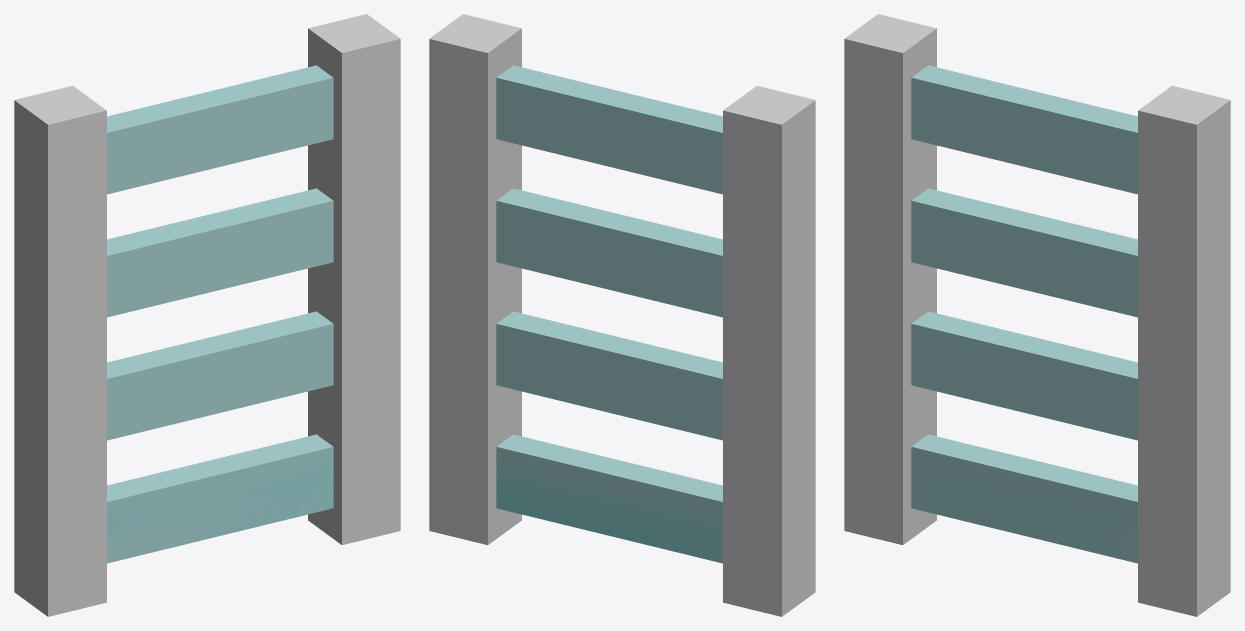
3 views of the same model, side by side, from view 1: azimuth 30°, elevation 25°; view 2: azimuth 150°, elevation 25°; view 3: azimuth 330°, elevation 25° (orthographic).
Parts seen in each view (by area): view 1: square_post, square_post.001, top_rail, lower_rail, upper_rail.001, bottom_rail, bottom_rail.001, upper_rail, lower_rail.001, top_rail.001; view 2: square_post, square_post.001, upper_rail, lower_rail.001, bottom_rail, top_rail, top_rail.001, bottom_rail.001; view 3: square_post.001, square_post, lower_rail, top_rail, bottom_rail, upper_rail.001, bottom_rail.001, top_rail.001, upper_rail.
Boxes of the visible parts, bbox=[...] form: square_post: bbox=[14, 85, 106, 616]; square_post.001: bbox=[308, 14, 400, 545]; top_rail: bbox=[107, 65, 333, 194]; lower_rail: bbox=[107, 311, 333, 440]; upper_rail.001: bbox=[107, 201, 333, 317]; bottom_rail: bbox=[107, 435, 333, 563]; bottom_rail.001: bbox=[107, 434, 333, 555]; upper_rail: bbox=[107, 188, 333, 317]; lower_rail.001: bbox=[107, 313, 327, 378]; top_rail.001: bbox=[107, 82, 333, 192]; square_post: bbox=[723, 85, 815, 616]; square_post.001: bbox=[429, 14, 521, 545]; upper_rail: bbox=[496, 188, 722, 317]; lower_rail.001: bbox=[496, 311, 722, 440]; bottom_rail: bbox=[496, 434, 722, 563]; top_rail: bbox=[496, 65, 722, 193]; top_rail.001: bbox=[496, 78, 722, 194]; bottom_rail.001: bbox=[496, 435, 722, 563]; square_post.001: bbox=[1138, 85, 1230, 616]; square_post: bbox=[844, 14, 936, 545]; lower_rail: bbox=[911, 311, 1137, 440]; top_rail: bbox=[911, 65, 1137, 194]; bottom_rail: bbox=[911, 434, 1137, 563]; upper_rail.001: bbox=[911, 201, 1137, 317]; bottom_rail.001: bbox=[911, 435, 1137, 557]; top_rail.001: bbox=[911, 77, 1137, 189]; upper_rail: bbox=[911, 188, 1137, 255].
Size of the model in its own units: 1.5 by 2 by 0.25.
